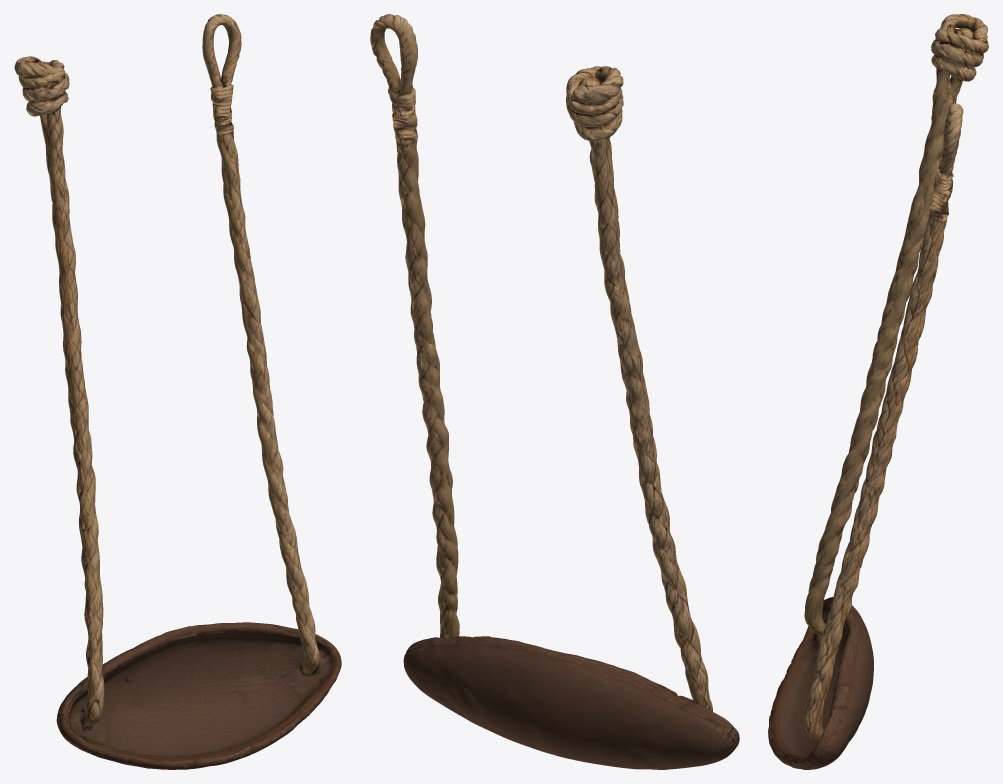
Rendered from david_rotating_sling.glb.
The picture shows the model from 3 angles, left to right: view 1: azimuth 30°, elevation 25°; view 2: azimuth 150°, elevation 25°; view 3: azimuth 270°, elevation 25°; orthographic projection. The views are drawn at different scales.
Parts seen in each view (by area): view 1: tripo_node_b78c1155-e7f5-4935-9f64-1bcdae4851f8; view 2: tripo_node_b78c1155-e7f5-4935-9f64-1bcdae4851f8; view 3: tripo_node_b78c1155-e7f5-4935-9f64-1bcdae4851f8.
Part boxes in pixels (left/top/right/bottom): tripo_node_b78c1155-e7f5-4935-9f64-1bcdae4851f8: left=14, top=14, right=341, bottom=769; tripo_node_b78c1155-e7f5-4935-9f64-1bcdae4851f8: left=370, top=14, right=739, bottom=769; tripo_node_b78c1155-e7f5-4935-9f64-1bcdae4851f8: left=768, top=14, right=988, bottom=769.
Bounding box in the file's own units: 0.4312 × 0.9796 × 0.2896.
1 material, 1 textured.
